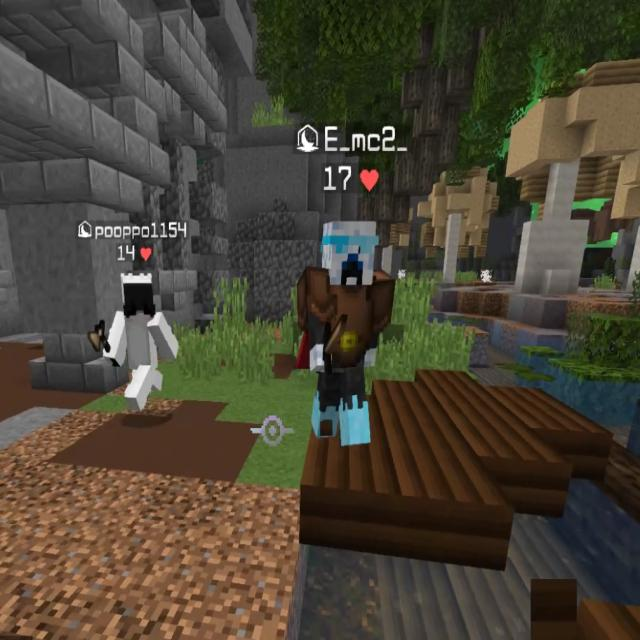Player: (296, 217, 394, 444), (100, 272, 180, 412)
